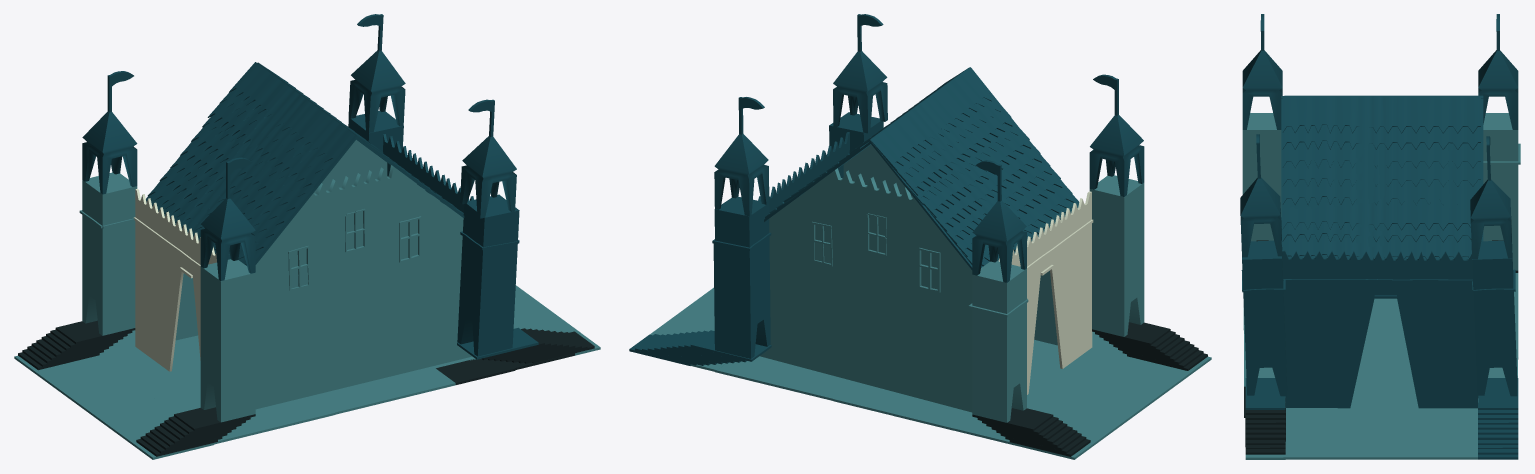
File: cz4gr-house.obj
3 views of the same model, side by side, from view 1: azimuth 30°, elevation 25°; view 2: azimuth 150°, elevation 25°; view 3: azimuth 270°, elevation 25° (orthographic).
Visible parts, largest first — view 1: pCube113, pCube143, pCube136, pCube210, pCube67, pCube115, pCube69, pCube117, pCube146, pCube142, pCube211, pCube282 (+29 smaller); view 2: pCube114, pCube283, pCube136, pCube67, pCube143, pCube115, pCube117, pCube282, pCube211, pCube142, pCube146, pCube69 (+30 smaller); view 3: pCube209, pCube127, pCube283, pCube210, pCube133, pCube131, pCube130, pCube129, pCube67, pCube132, pCube110, pCube135 (+27 smaller).
Boxes of the visible parts, <box> form: pCube113: <box>255,164,472,409</box>; pCube143: <box>200,259,255,422</box>; pCube136: <box>133,188,216,371</box>; pCube210: <box>457,194,519,356</box>; pCube67: <box>79,172,137,335</box>; pCube115: <box>229,62,354,162</box>; pCube69: <box>82,180,136,335</box>; pCube117: <box>207,93,333,187</box>; pCube146: <box>82,71,137,194</box>; pCube142: <box>200,157,255,280</box>; pCube211: <box>460,99,516,218</box>; pCube282: <box>348,14,405,132</box>; pCube114: <box>760,168,972,412</box>; pCube283: <box>712,196,771,358</box>; pCube136: <box>998,191,1093,394</box>; pCube67: <box>968,261,1028,422</box>; pCube143: <box>1089,175,1144,336</box>; pCube115: <box>871,68,991,170</box>; pCube117: <box>891,93,1012,195</box>; pCube282: <box>714,97,769,216</box>; pCube211: <box>833,14,887,133</box>; pCube142: <box>1089,74,1144,196</box>; pCube146: <box>972,160,1026,282</box>; pCube69: <box>972,269,1026,421</box>; pCube209: <box>1282,250,1477,408</box>; pCube127: <box>1282,96,1480,133</box>; pCube283: <box>1472,240,1517,398</box>; pCube210: <box>1241,240,1287,397</box>; pCube133: <box>1282,194,1471,230</box>; pCube131: <box>1282,159,1480,186</box>; pCube130: <box>1282,141,1480,168</box>; pCube129: <box>1282,124,1480,149</box>; pCube67: <box>1483,113,1520,270</box>; pCube132: <box>1282,178,1480,204</box>; pCube110: <box>1281,98,1483,259</box>; pCube135: <box>1282,236,1471,259</box>.
Bounding box in the file's own units: 12.86 × 7.42 × 6.98.
